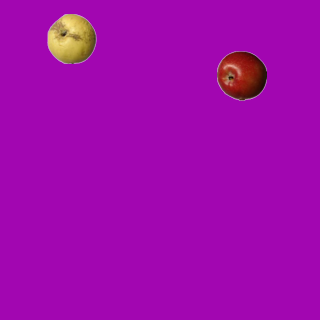Apple Braeburn: (216, 50, 266, 100)
Apple Golden 1: (46, 13, 96, 63)
